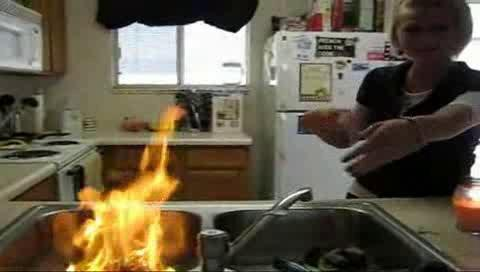fire: (64, 101, 195, 271)
